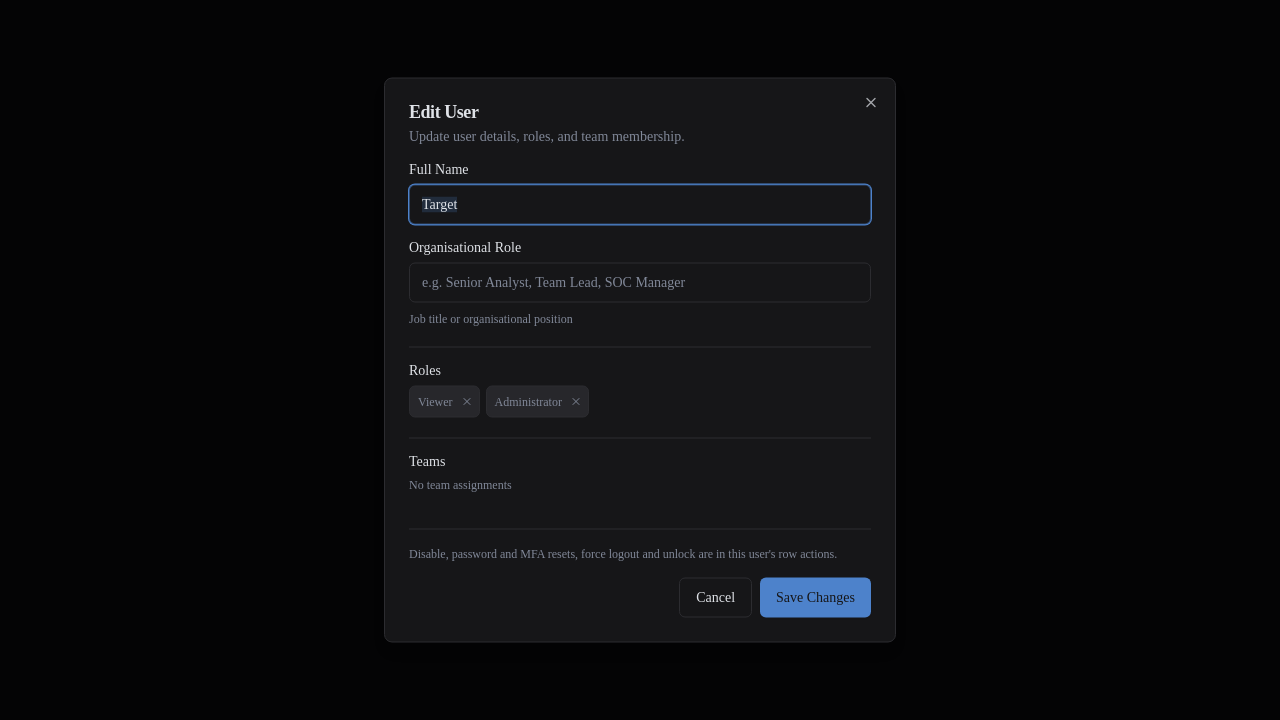
it: EditUserModal › shows the server message for last_admin
Click the button named "Remove role Administrator" at (576, 402), box [568,394,584,410]
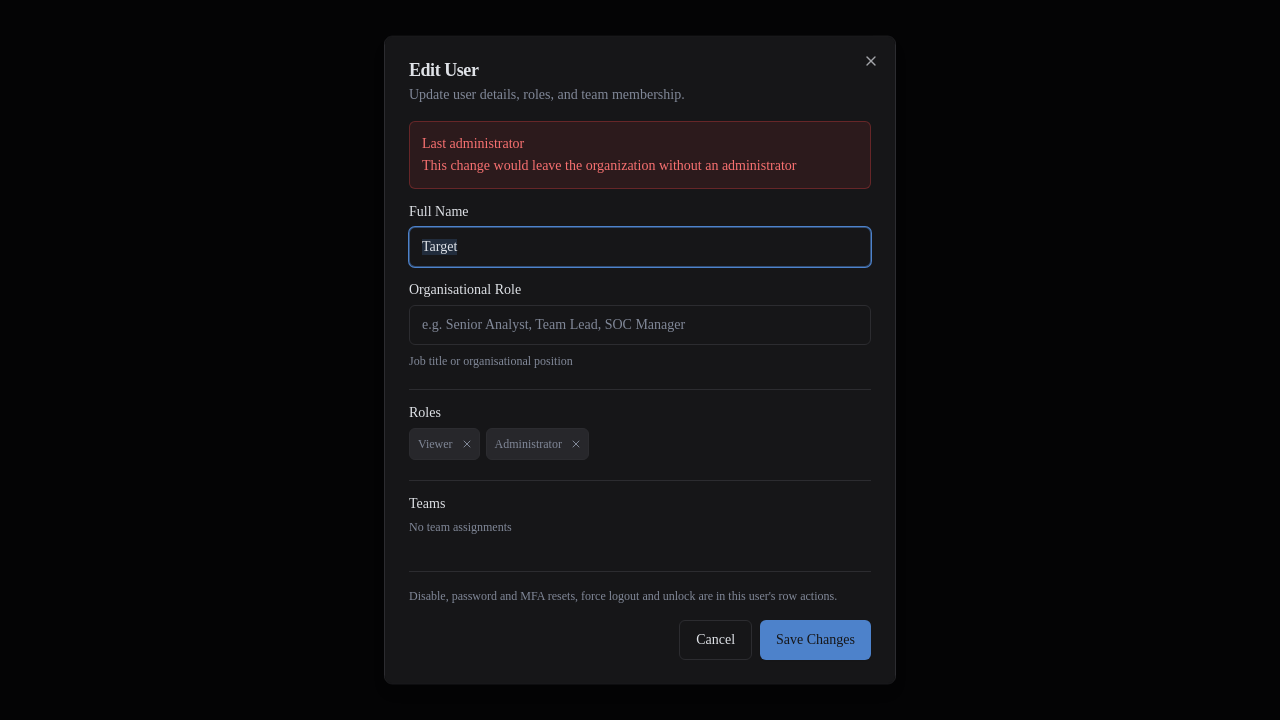
Check: the message shows "Last administrator", box [422,136,524,151]
Check: the message shows "This change would leave the organization without an administrator", box [422,158,796,173]
